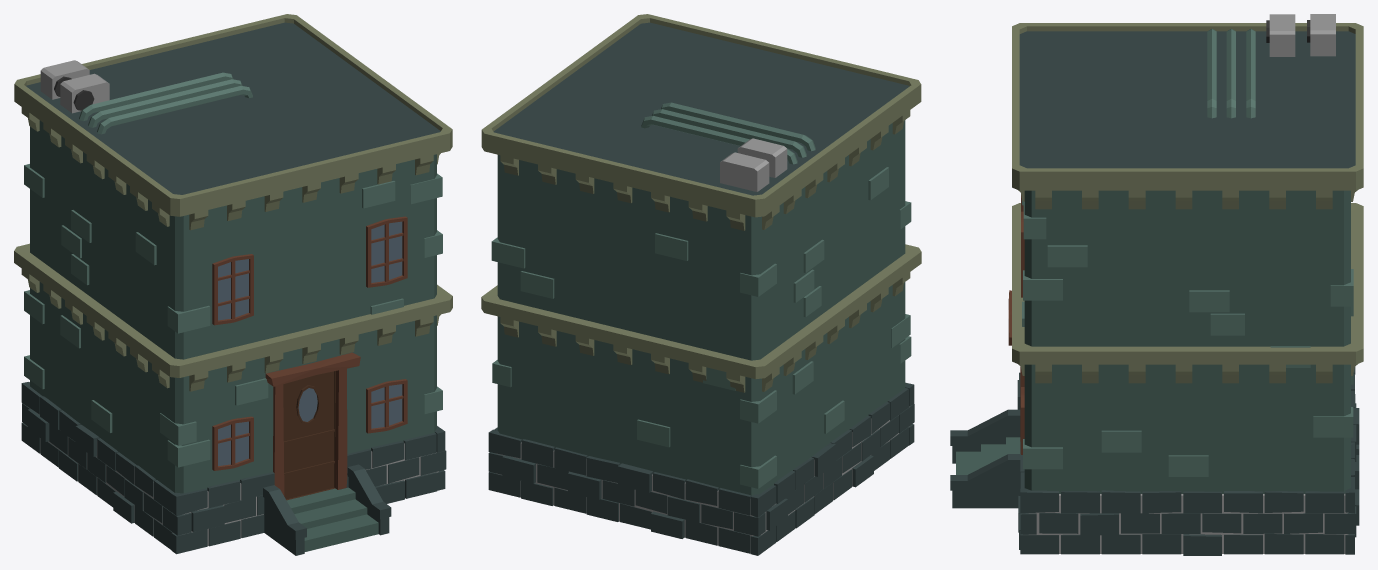
Rendered from 2Story_Stairs.glb.
3 renders of one model, left to right at view 1: azimuth 30°, elevation 25°; view 2: azimuth 150°, elevation 25°; view 3: azimuth 270°, elevation 25°, orthographic. The views are drawn at different scales.
Parts seen in each view (by area): view 1: 2Story_Stairs_Mat; view 2: 2Story_Stairs_Mat; view 3: 2Story_Stairs_Mat.
Part boxes in pixels (x1,y1,x2,y2): 2Story_Stairs_Mat: (14,14,452,555); 2Story_Stairs_Mat: (481,14,921,555); 2Story_Stairs_Mat: (950,14,1363,555).
Size of the model in its own units: 2.16 by 2.75 by 2.53.
